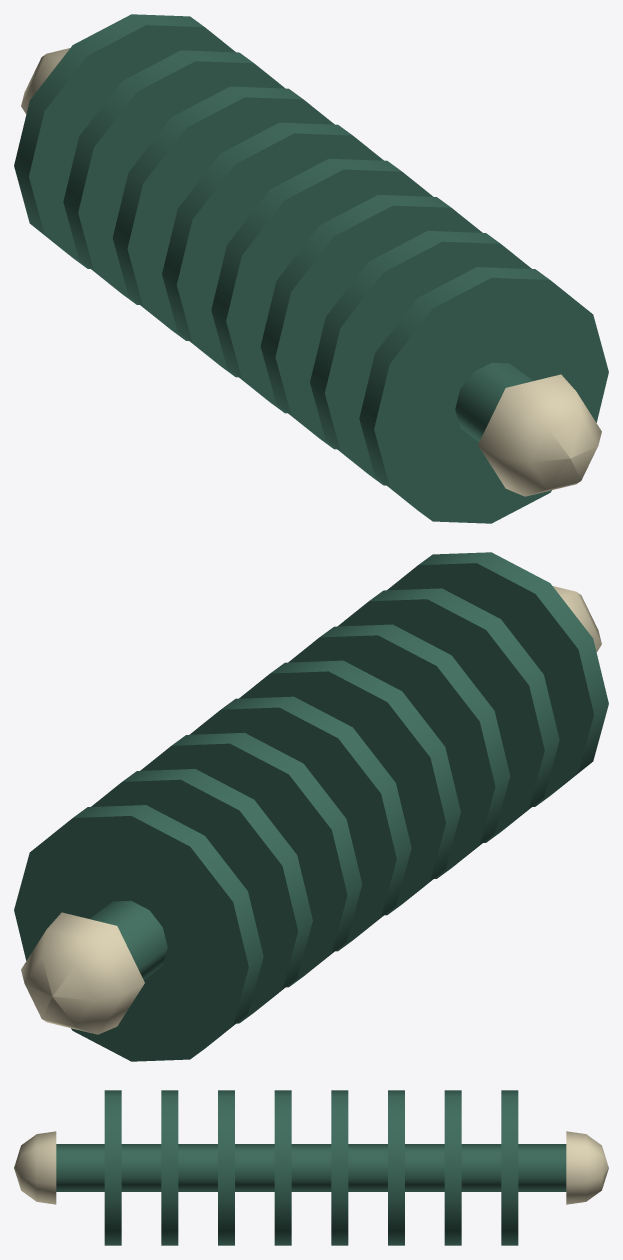
Rendered from hefe_emitter.obj.
3 renders of one model, top to bottom at view 1: azimuth 30°, elevation 25°; view 2: azimuth 150°, elevation 25°; view 3: azimuth 270°, elevation 25°, orthographic. The views are drawn at different scales.
Visible parts, largest first — view 1: hefe_emitter; view 2: hefe_emitter; view 3: hefe_emitter.
Boxes of the visible parts, x1=… form: hefe_emitter: x1=14, y1=14, x2=608, y2=523; hefe_emitter: x1=14, y1=552, x2=608, y2=1061; hefe_emitter: x1=14, y1=1090, x2=608, y2=1245.
Size of the model in its own units: 1.1 by 1.1 by 4.2.
